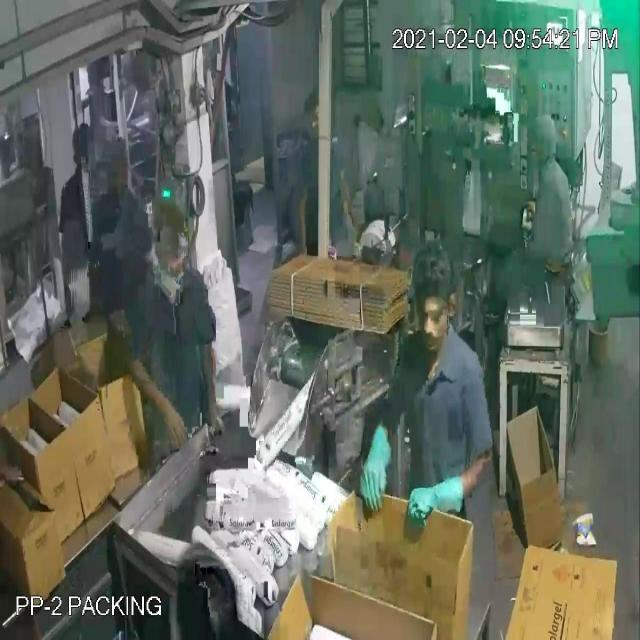No_Gloves: (28, 93, 438, 502)
